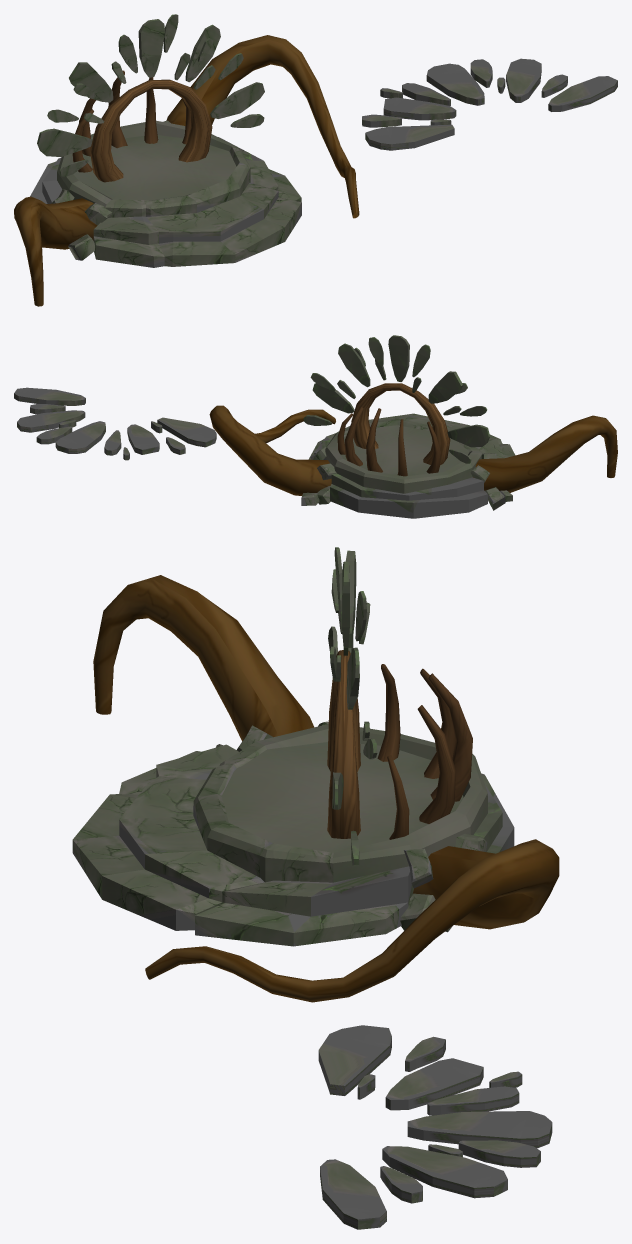
The model's file is portal (3).fbx.
3 renders of one model, top to bottom at view 1: azimuth 30°, elevation 25°; view 2: azimuth 150°, elevation 25°; view 3: azimuth 270°, elevation 25°, orthographic. The views are drawn at different scales.
Visible parts, largest first — view 1: portal.001, portal.002, rocks; view 2: portal.001, portal.002, rocks; view 3: portal.001, portal.002, rocks.
Boxes of the visible parts, x1,y1,x2,y2 form: portal.001: [30, 14, 301, 267]; portal.002: [14, 35, 359, 306]; rocks: [362, 58, 617, 150]; portal.001: [301, 335, 515, 518]; portal.002: [209, 383, 617, 495]; rocks: [14, 387, 216, 460]; portal.001: [72, 547, 514, 946]; portal.002: [93, 575, 559, 1002]; rocks: [318, 1025, 552, 1229].
Size of the model in its own units: 1600 by 442 by 627.
